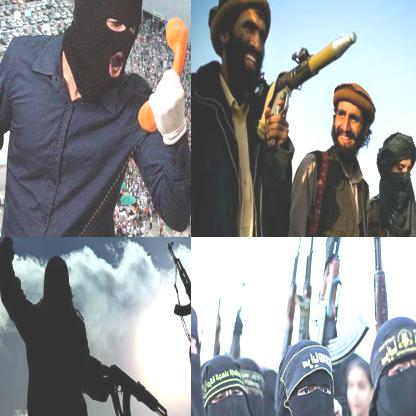rifle: (248, 29, 361, 120), (314, 237, 370, 372), (81, 344, 186, 415), (163, 238, 190, 371), (206, 258, 231, 374), (367, 237, 396, 333), (225, 274, 251, 374), (284, 237, 305, 354), (302, 237, 316, 358)
